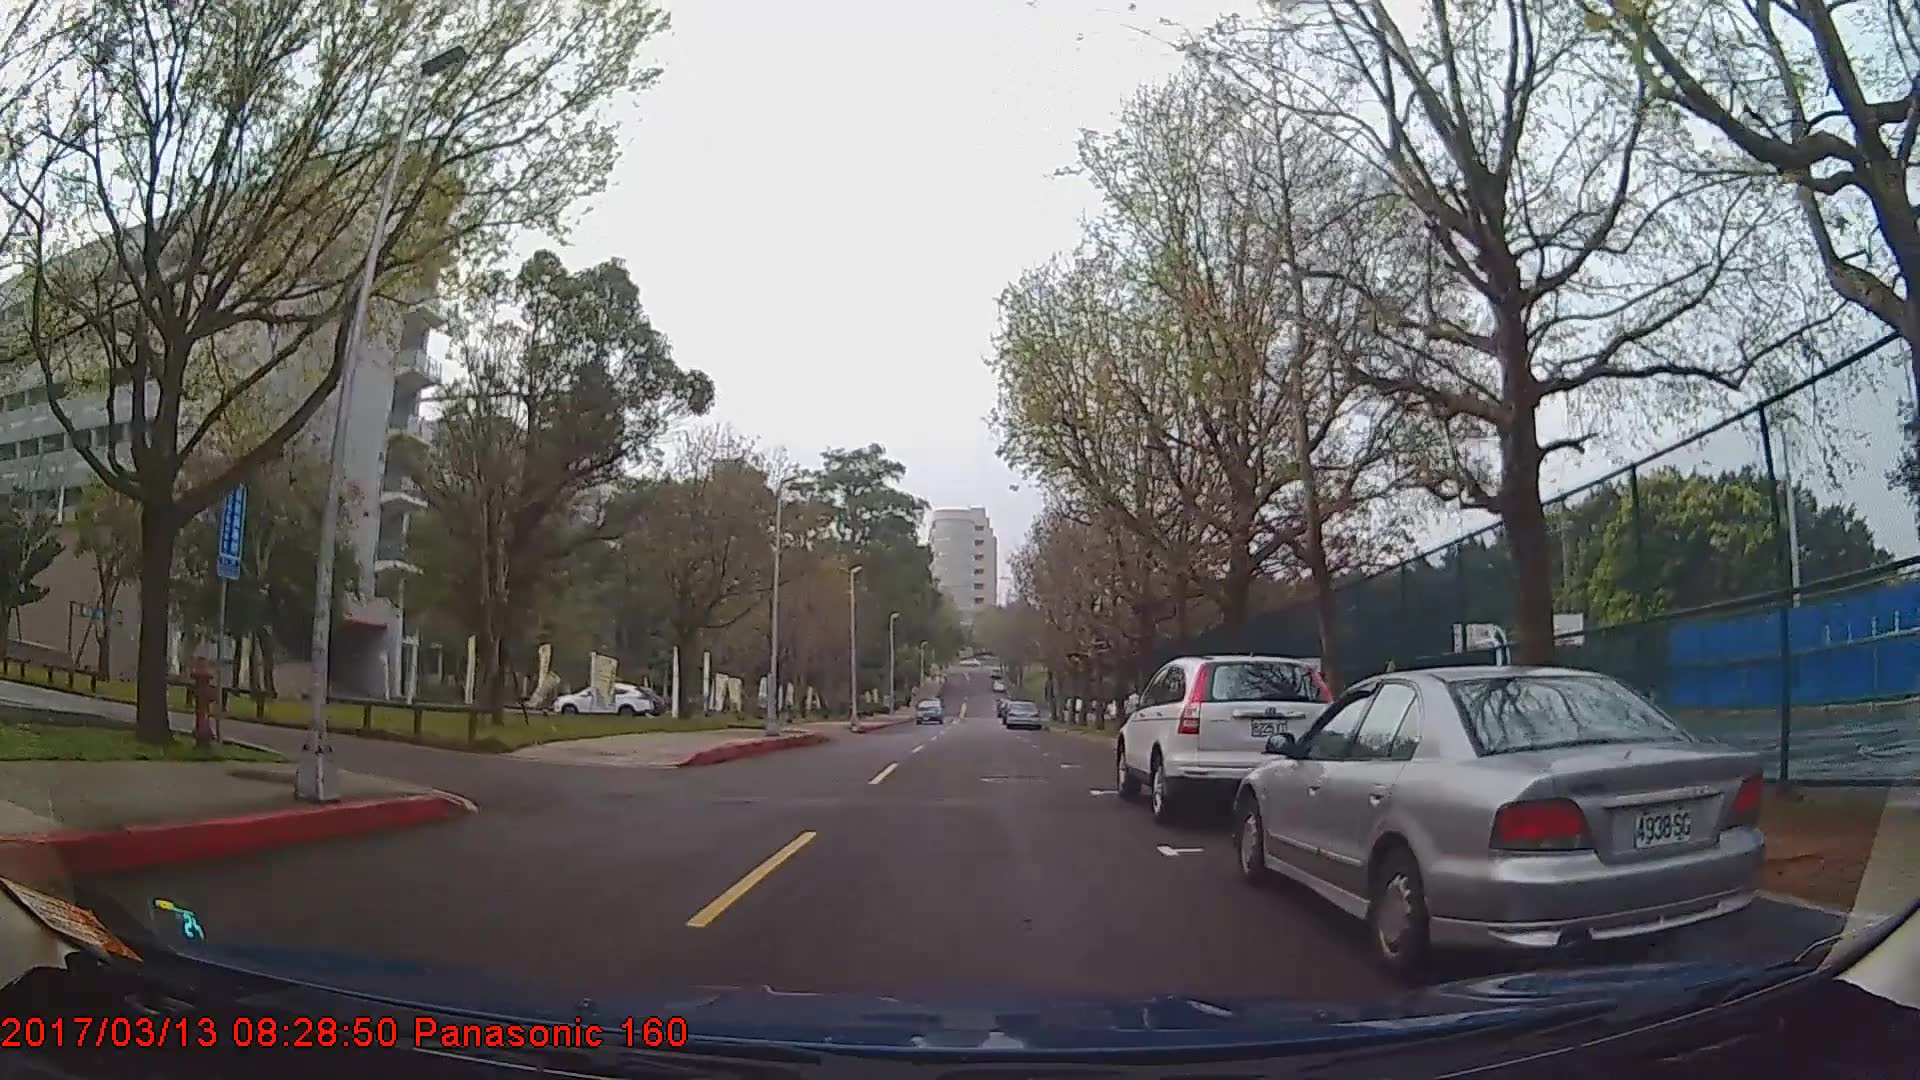vehicle: (1236, 665, 1767, 971), (1116, 657, 1344, 824), (556, 680, 655, 719), (1004, 698, 1040, 731), (915, 695, 944, 724)
